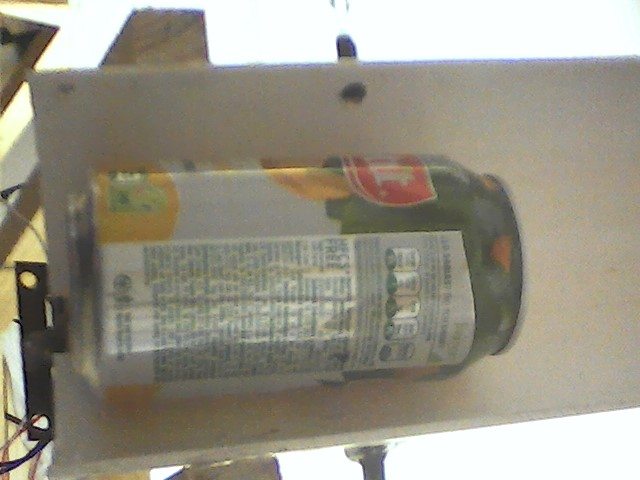lata: (64, 148, 535, 403)
